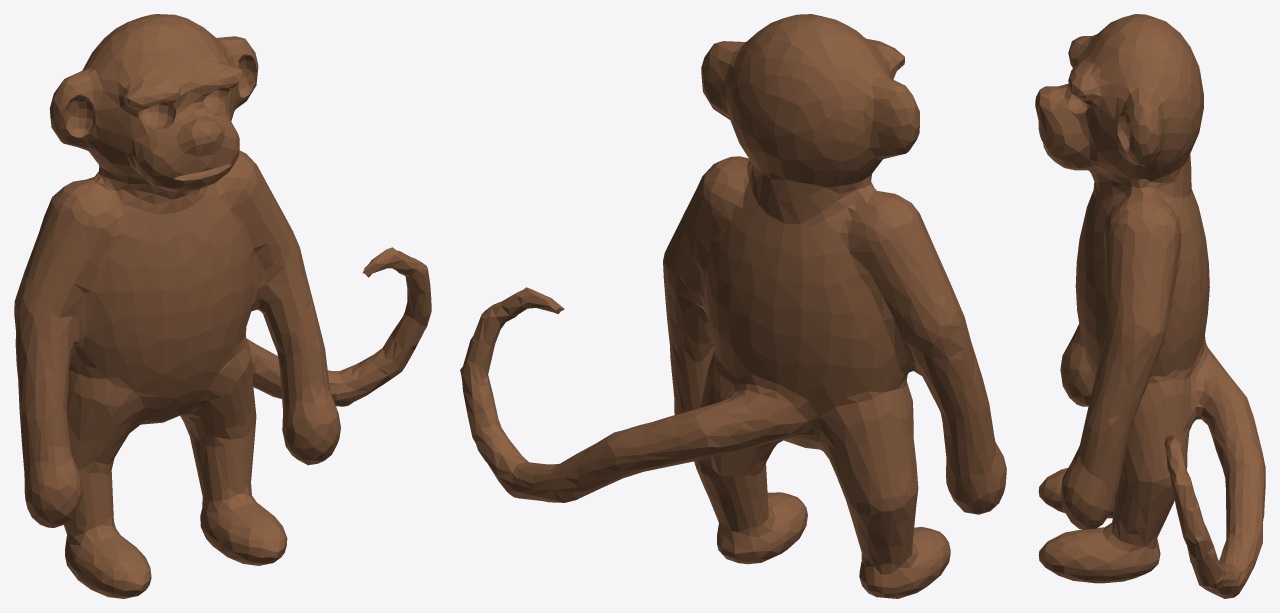
File: NEW_RECOVERY_040_LOD0.glb
3 renders of one model, left to right at view 1: azimuth 30°, elevation 25°; view 2: azimuth 150°, elevation 25°; view 3: azimuth 270°, elevation 25°, orthographic. The views are drawn at different scales.
Visible parts, largest first — view 1: Monkey; view 2: Monkey; view 3: Monkey.
Boxes of the visible parts, x1,y1,x2,y2 form: Monkey: (14, 14, 431, 598); Monkey: (460, 14, 1006, 598); Monkey: (1035, 14, 1265, 598).
Size of the model in its own units: 2.91 by 3.26 by 1.3.
